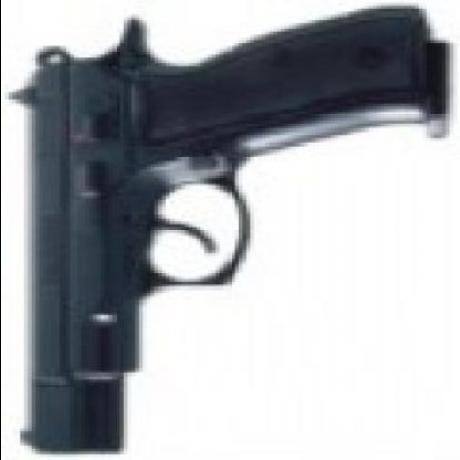weapon: (10, 6, 452, 458)
